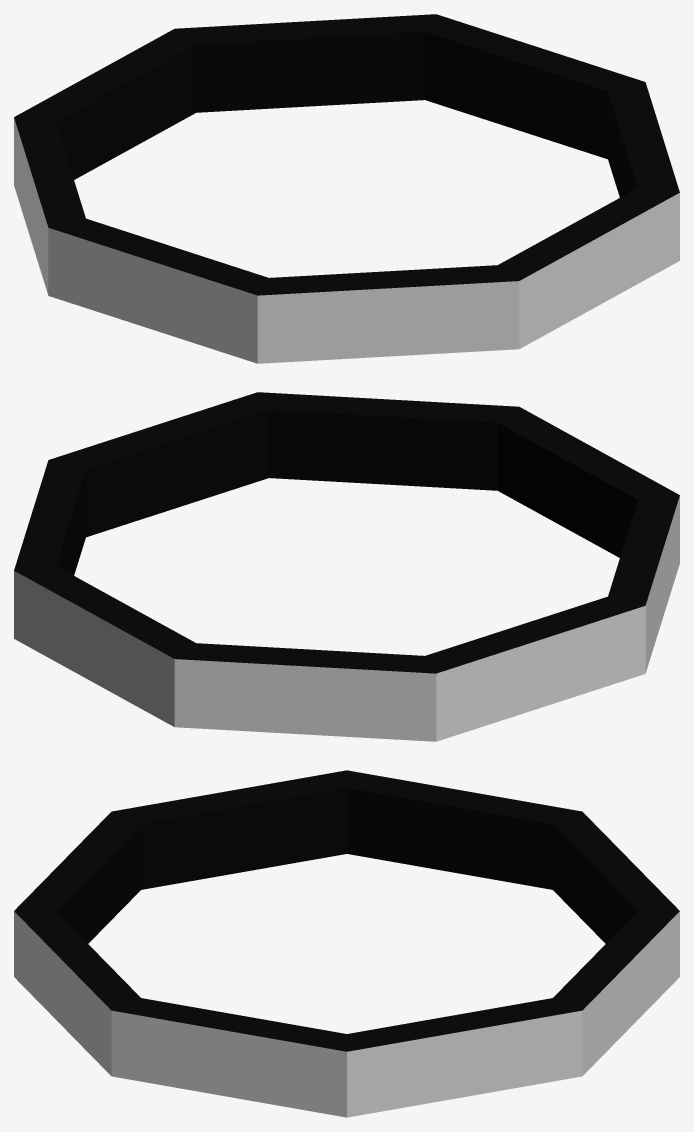
Rendered from Enemy_Eye_Ring.fbx.
3 views of the same model, one above another, from view 1: azimuth 30°, elevation 25°; view 2: azimuth 150°, elevation 25°; view 3: azimuth 270°, elevation 25° (orthographic). The views are drawn at different scales.
Visible parts, largest first — view 1: Enemy_Eye_Ring; view 2: Enemy_Eye_Ring; view 3: Enemy_Eye_Ring.
Part boxes in pixels (box(x1,y1,x2,y2)): Enemy_Eye_Ring: box(14, 14, 679, 363); Enemy_Eye_Ring: box(14, 392, 679, 741); Enemy_Eye_Ring: box(14, 770, 679, 1117).
Bounding box in the file's own units: 357 × 39 × 357.
